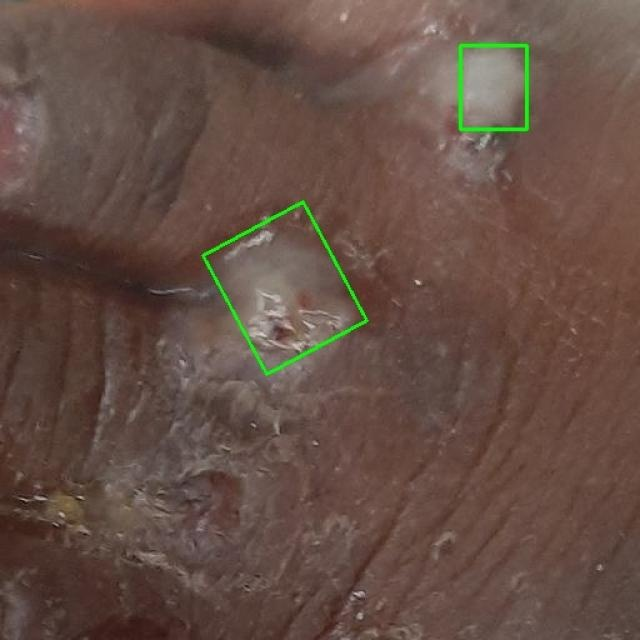Eczema: (204, 202, 367, 374), (460, 45, 526, 129)
